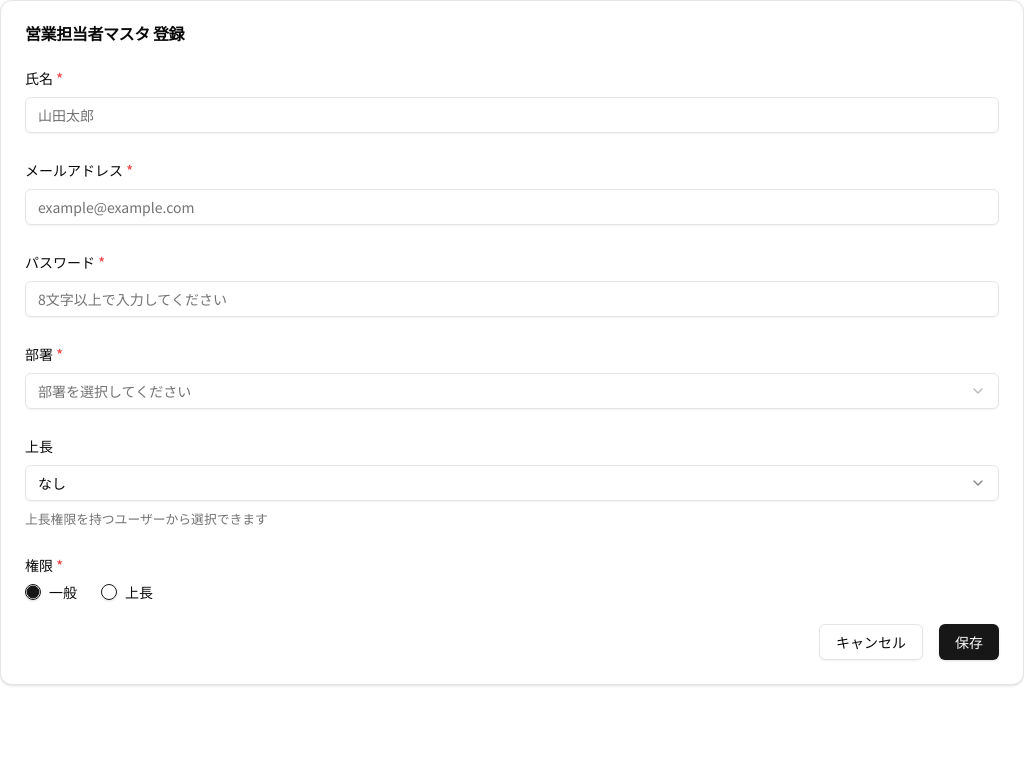
Test: SalesPersonForm › validation - create mode › should show validation errors when submitting empty form
Click the button "保存" at (969, 642), box [939, 624, 999, 660]
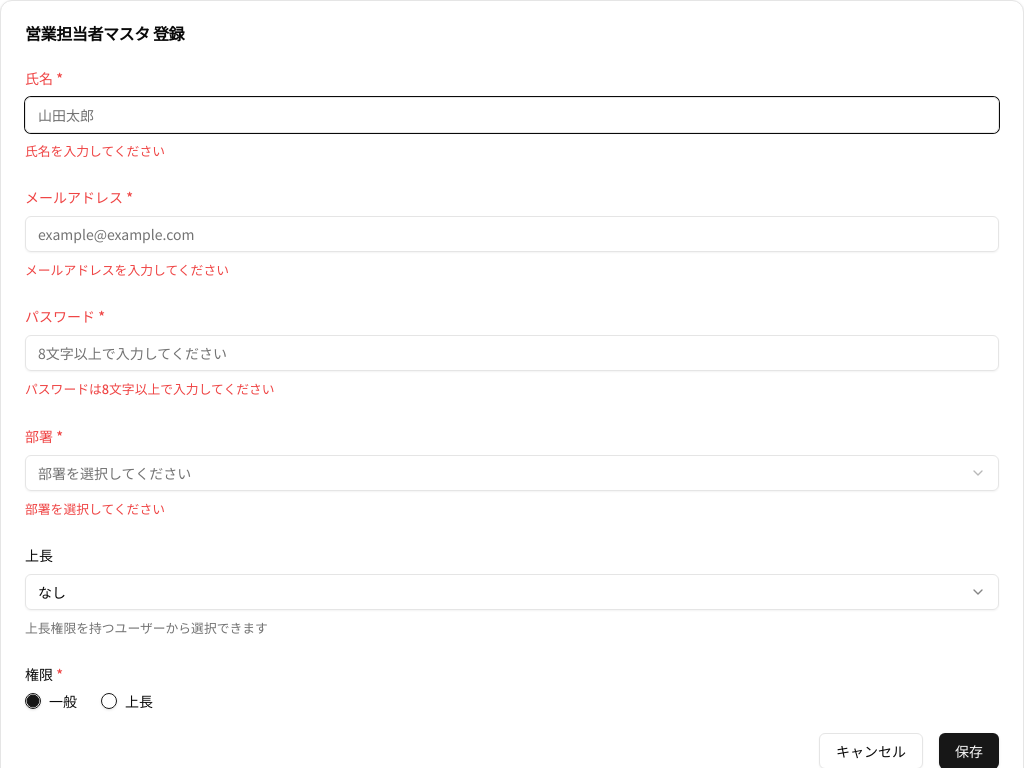
Expected: the text "氏名を入力してください" is shown, [25, 141, 165, 160]
